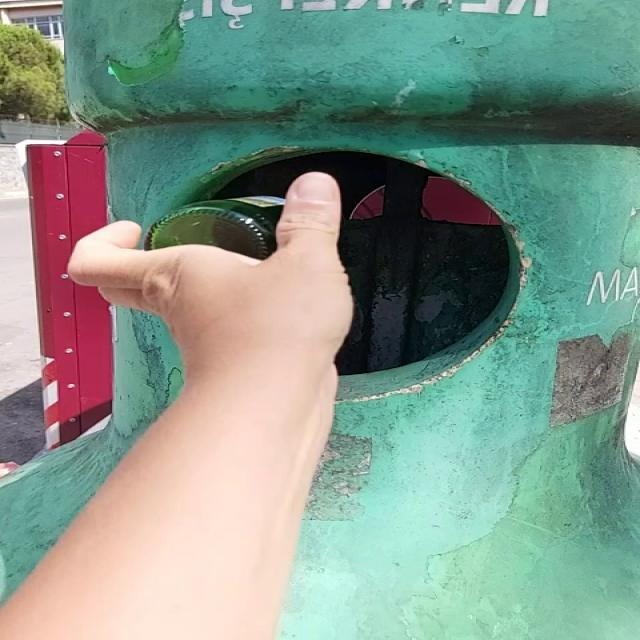Glass: (144, 199, 279, 260)
